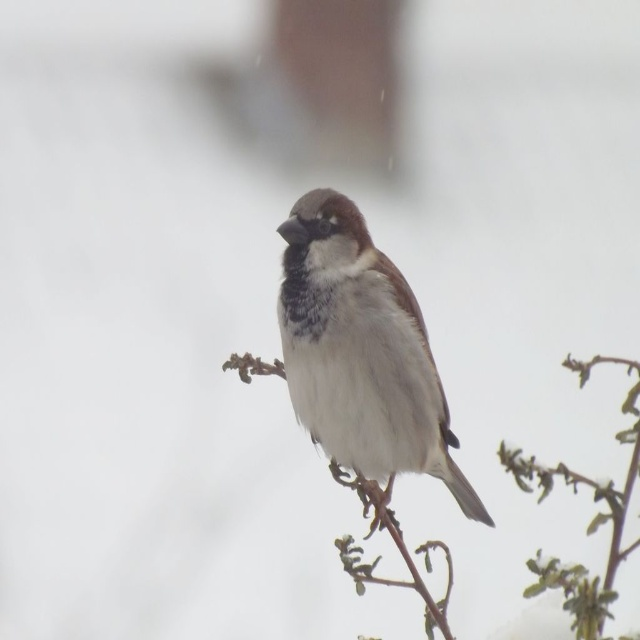Sparrow: (274, 182, 497, 532)
